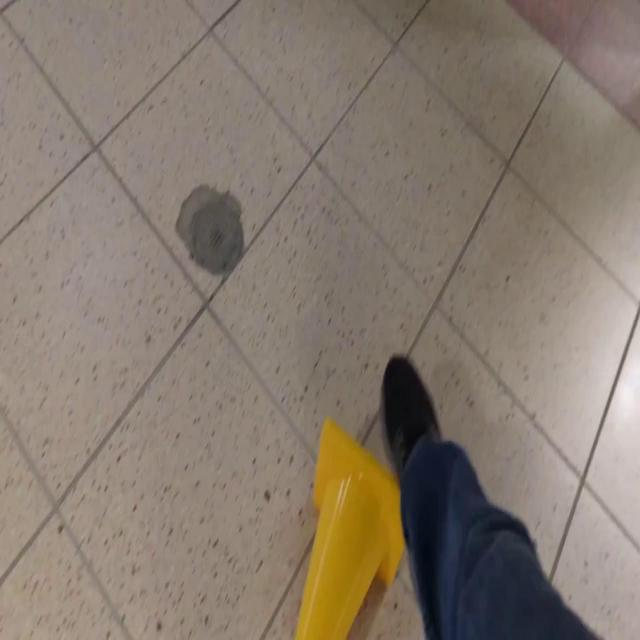frc_cone: (294, 413, 409, 640)
